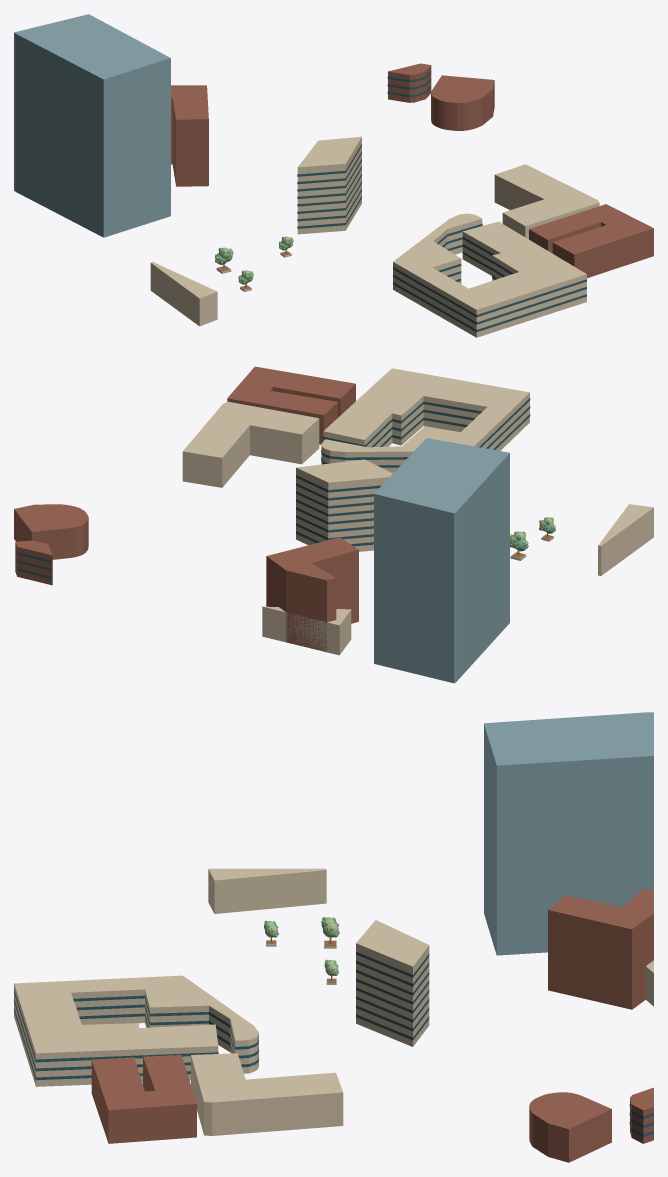
The picture shows the model from 3 angles, top to bottom: view 1: azimuth 30°, elevation 25°; view 2: azimuth 150°, elevation 25°; view 3: azimuth 270°, elevation 25°; orthographic projection. The views are drawn at different scales.
Visible parts, largest first — view 1: osm-way-326196925, osm-way-744527948, osm-way-744529824, osm-way-1331990218, osm-way-744529825, osm-relation-16151451, osm-way-1204417680, osm-way-1209959236, osm-way-1330812582; view 2: osm-way-326196925, osm-way-744527948, osm-relation-16151451, osm-way-744529825, osm-way-1331990218, osm-way-744529824, osm-way-1204417680, osm-way-1341569515, osm-way-1209959236, osm-way-1330812582; view 3: osm-way-326196925, osm-way-744527948, osm-relation-16151451, osm-way-744529825, osm-way-744529824, osm-way-1331990218, osm-way-1209959236, osm-way-1204417680, osm-way-1330812582.
Boxes of the visible parts, left/top/right/bottom form: osm-way-326196925: left=14, top=14, right=170, bottom=237; osm-way-744527948: left=393, top=213, right=586, bottom=337; osm-way-744529824: left=529, top=204, right=653, bottom=278; osm-way-1331990218: left=297, top=136, right=361, bottom=234; osm-way-744529825: left=494, top=164, right=599, bottom=239; osm-relation-16151451: left=171, top=85, right=208, bottom=186; osm-way-1204417680: left=431, top=75, right=494, bottom=130; osm-way-1209959236: left=150, top=262, right=217, bottom=326; osm-way-1330812582: left=387, top=63, right=431, bottom=102; osm-way-326196925: left=374, top=438, right=509, bottom=683; osm-way-744527948: left=321, top=368, right=530, bottom=473; osm-relation-16151451: left=266, top=537, right=358, bottom=651; osm-way-744529825: left=182, top=401, right=319, bottom=487; osm-way-1331990218: left=296, top=459, right=392, bottom=551; osm-way-744529824: left=227, top=366, right=355, bottom=444; osm-way-1204417680: left=14, top=504, right=88, bottom=559; osm-way-1341569515: left=262, top=606, right=351, bottom=655; osm-way-1209959236: left=598, top=504, right=653, bottom=575; osm-way-1330812582: left=15, top=540, right=52, bottom=585; osm-way-326196925: left=484, top=712, right=653, bottom=955; osm-way-744527948: left=14, top=975, right=258, bottom=1086; osm-relation-16151451: left=548, top=888, right=653, bottom=1009; osm-way-744529825: left=191, top=1053, right=343, bottom=1135; osm-way-744529824: left=91, top=1055, right=196, bottom=1143; osm-way-1331990218: left=356, top=920, right=429, bottom=1046; osm-way-1209959236: left=208, top=868, right=326, bottom=913; osm-way-1204417680: left=529, top=1092, right=611, bottom=1162; osm-way-1330812582: left=629, top=1087, right=653, bottom=1143.
Bounding box in the file's own units: 250 × 85 × 260.
